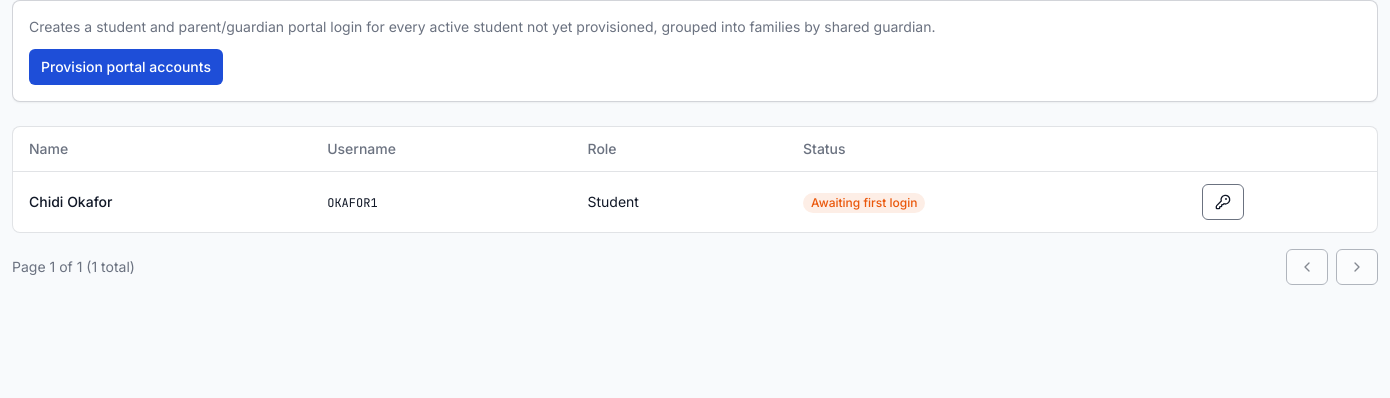
Test: PortalAccountsSettingsPage › renders a 'child_not_covered' warning through the same uniform path
The width and height of the screenshot is (1390, 398).
Click the button "Provision portal accounts" at (126, 67), box top-left (29, 49), bottom-right (223, 85)
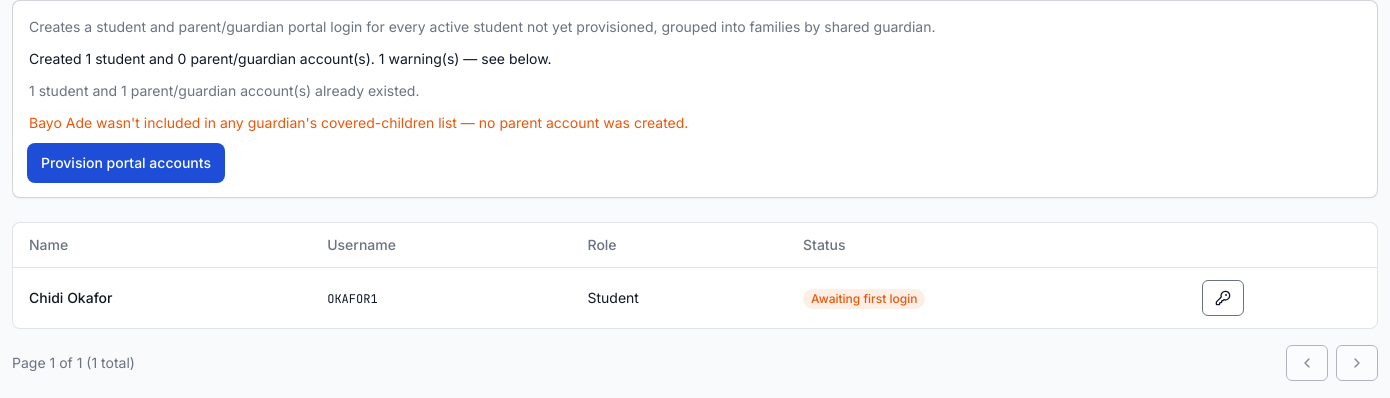
Expected: the list item "Bayo Ade wasn't included in any guardian's covered-children list — no parent account was created." is shown, top-left (29, 114), bottom-right (688, 131)
